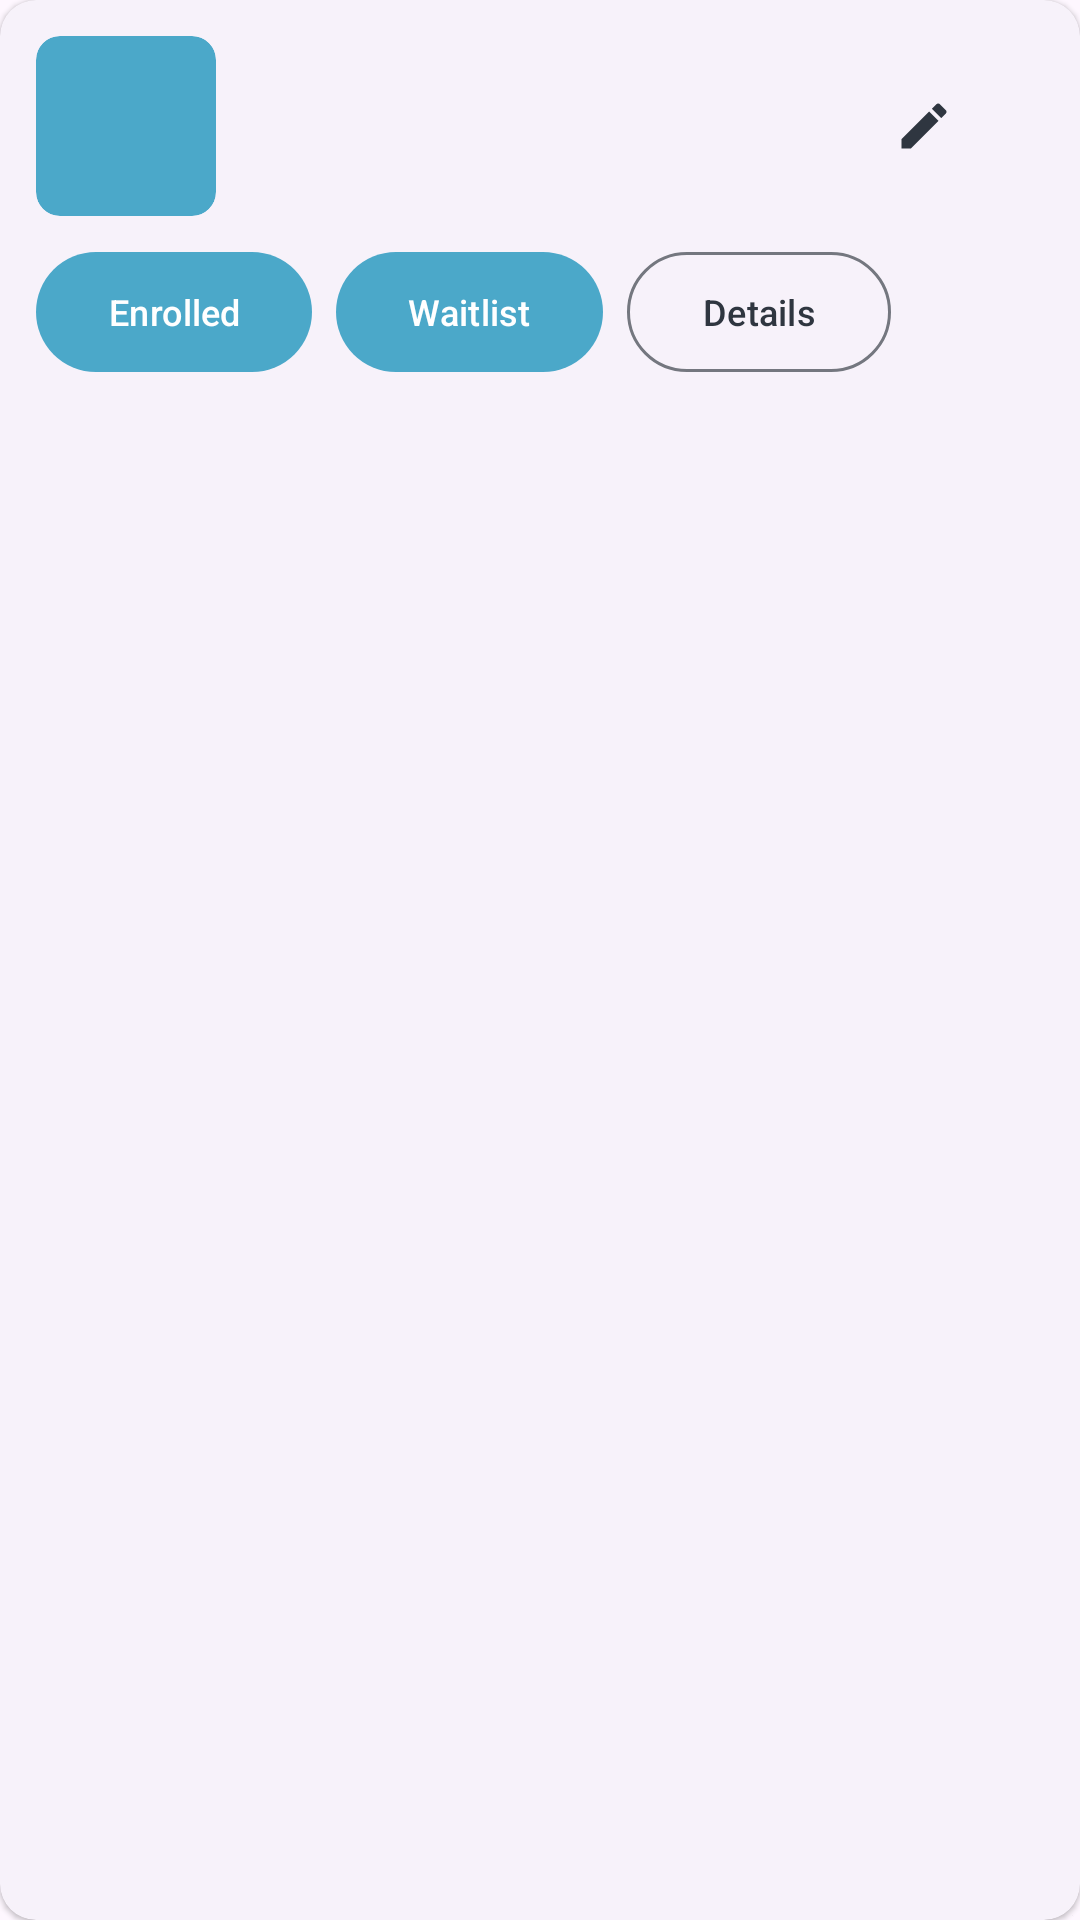

Icon click points for this 1080x1920 phone screenshot, format point (x, y):
edit: point (924, 126)
